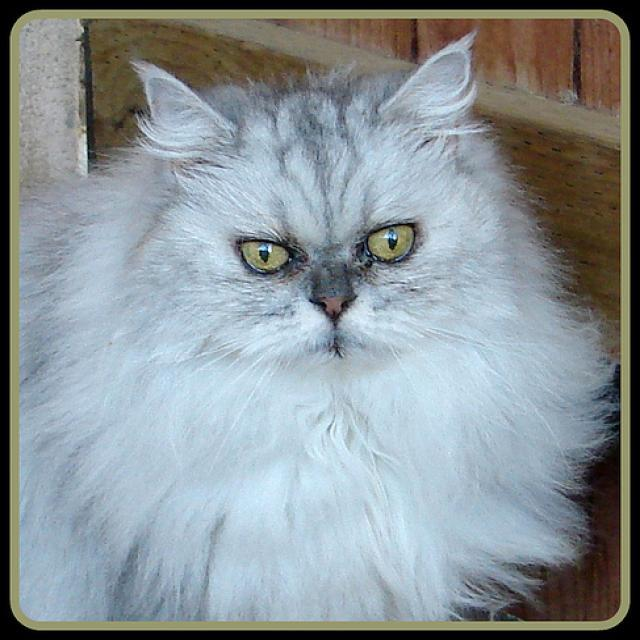Persian: (124, 34, 513, 400)
